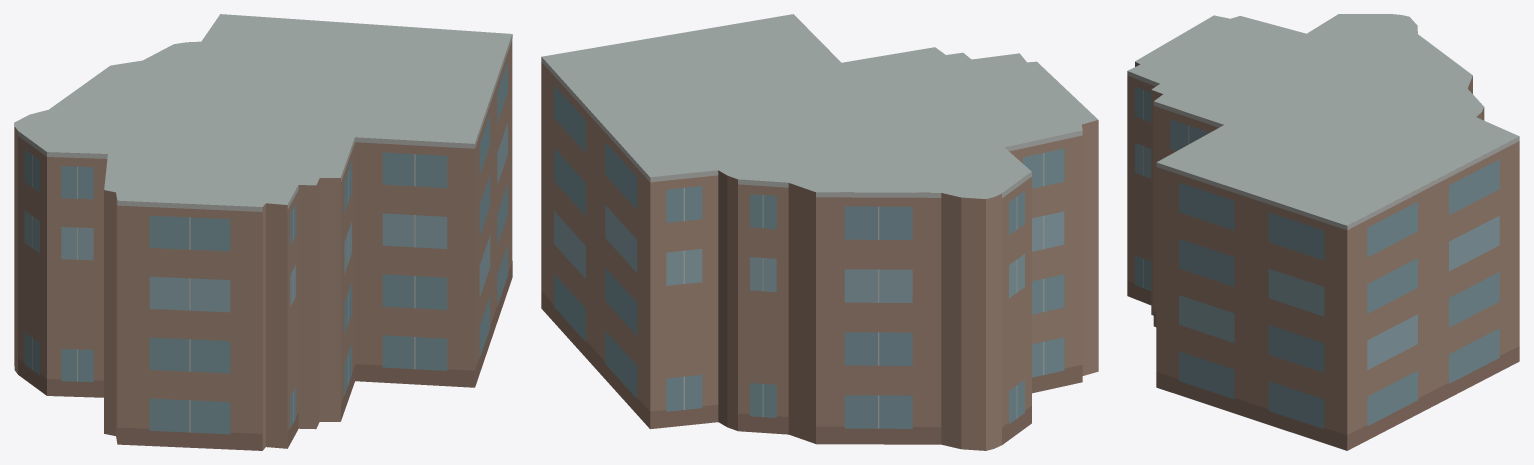
Rendered from survey-upis-32850566.glb.
The picture shows the model from 3 angles, left to right: view 1: azimuth 30°, elevation 25°; view 2: azimuth 150°, elevation 25°; view 3: azimuth 270°, elevation 25°; orthographic projection. The views are drawn at different scales.
Visible parts, largest first — view 1: survey-upis-32850566.tmp; view 2: survey-upis-32850566.tmp; view 3: survey-upis-32850566.tmp.
Boxes of the visible parts, x1,y1,x2,y2 form: survey-upis-32850566.tmp: (14,14,512,450); survey-upis-32850566.tmp: (541,14,1098,450); survey-upis-32850566.tmp: (1127,14,1519,450).
Size of the model in its own units: 24.63 by 12.2 by 19.28.
